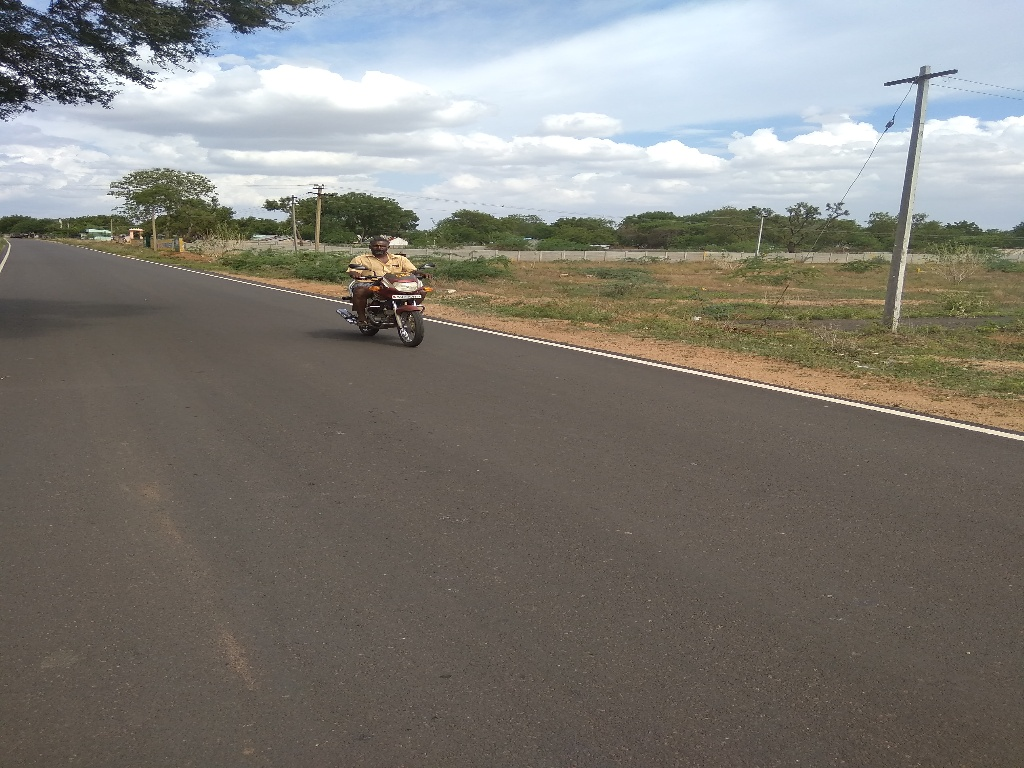biker: (334, 198, 433, 355)
nohelmet: (365, 224, 399, 267)
